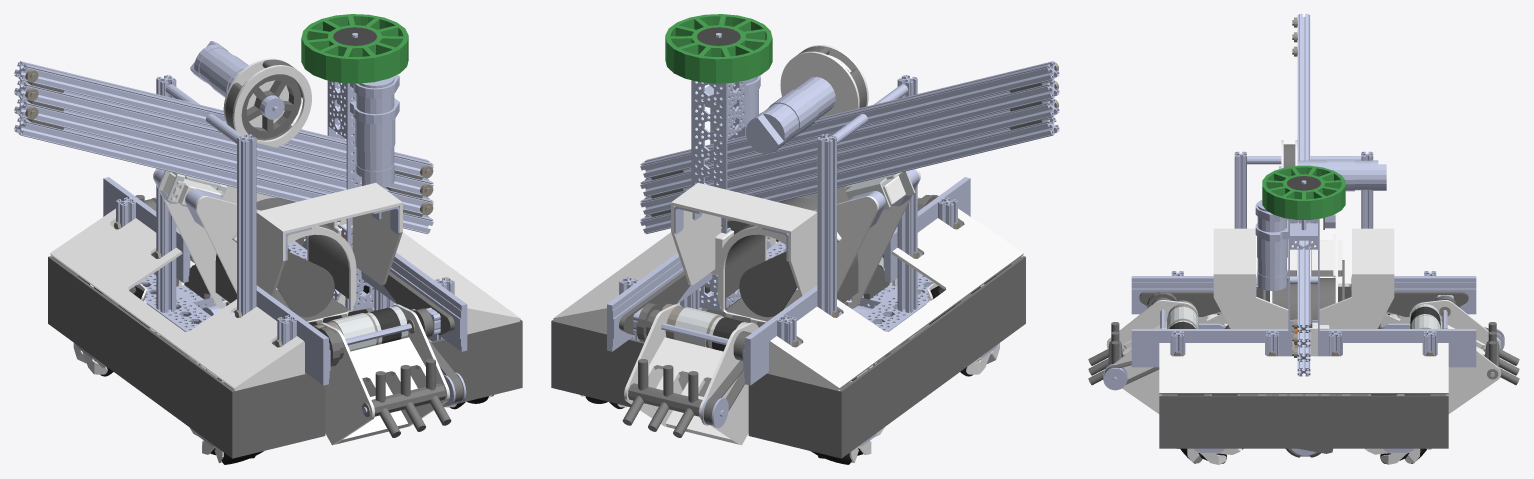
The model's file is Meta_Assembly_Third_FBX_Export.fbx.
3 views of the same model, side by side, from view 1: azimuth 30°, elevation 25°; view 2: azimuth 150°, elevation 25°; view 3: azimuth 270°, elevation 25° (orthographic). The views are drawn at different scales.
Visible parts, largest first — view 1: Body1 (×27), Body4 (×6), Body2 (×6), Body3 (×6), Body5 (×5), Body7, Body6; view 2: Body1 (×21), Body2 (×6), Body4 (×5), Body3 (×5), Body5 (×3), Body8, Body9, Body12, Body6; view 3: Body1 (×18), Body3 (×3), Body4 (×5), Body9, Body2 (×2), Body8, Body5 (×3), Body6 (×2).
Part boxes in pixels (left/top/right/bottom): Body1 (×27): left=14, top=14, right=519, bottom=445; Body4 (×6): left=50, top=48, right=402, bottom=390; Body2 (×6): left=48, top=27, right=519, bottom=458; Body3 (×6): left=103, top=94, right=520, bottom=457; Body5 (×5): left=156, top=55, right=395, bottom=351; Body7: left=256, top=215, right=285, bottom=297; Body6: left=355, top=162, right=394, bottom=187; Body1 (×21): left=619, top=14, right=1059, bottom=457; Body2 (×6): left=662, top=27, right=1025, bottom=458; Body4 (×5): left=554, top=75, right=1023, bottom=390; Body3 (×5): left=553, top=79, right=831, bottom=406; Body5 (×3): left=674, top=89, right=836, bottom=347; Body8: left=671, top=182, right=817, bottom=234; Body9: left=671, top=205, right=721, bottom=285; Body12: left=788, top=215, right=817, bottom=297; Body6: left=746, top=110, right=788, bottom=153; Body1 (×18): left=1088, top=14, right=1519, bottom=464; Body3 (×3): left=1159, top=276, right=1476, bottom=464; Body4 (×5): left=1213, top=151, right=1476, bottom=367; Body9: left=1319, top=276, right=1394, bottom=328; Body2 (×2): left=1131, top=223, right=1317, bottom=314; Body8: left=1352, top=228, right=1394, bottom=276; Body5 (×3): left=1257, top=151, right=1373, bottom=262; Body6 (×2): left=1257, top=160, right=1386, bottom=290.
Bounding box in the file's own units: 17.75 × 15.85 × 20.49.
